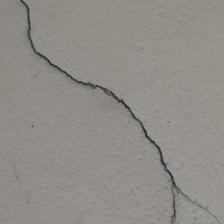Crack: (53, 94, 147, 224), (67, 27, 224, 72)
